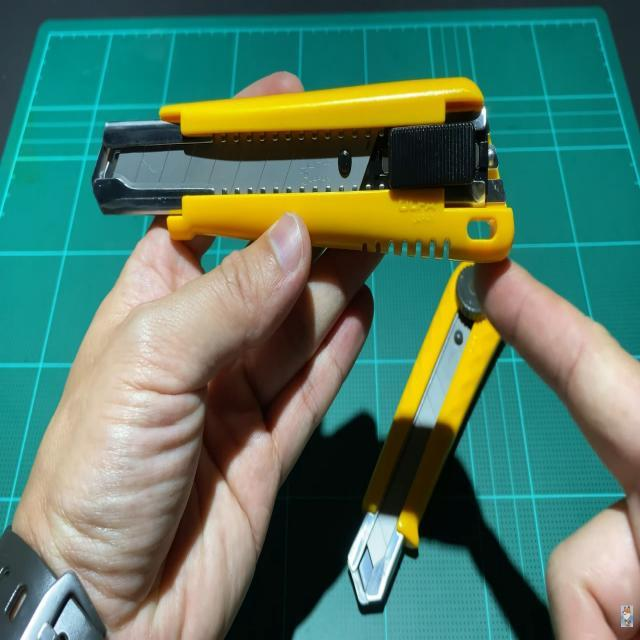cutter: (4, 52, 628, 619)
